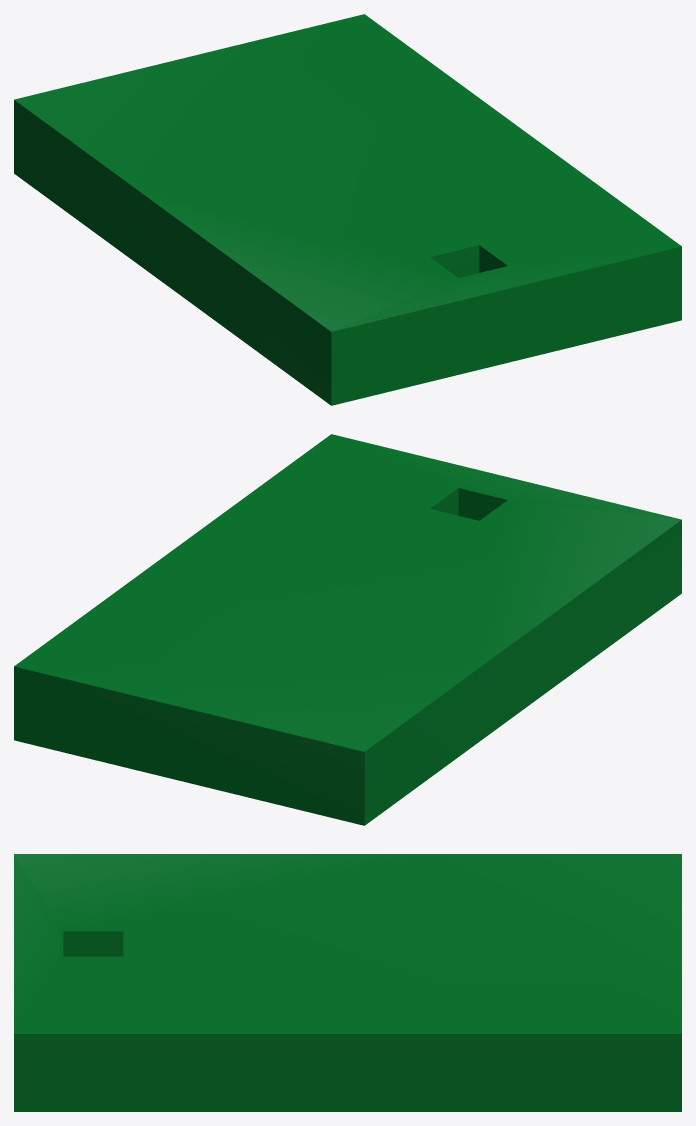
Rendered from course1.fbx.
3 renders of one model, top to bottom at view 1: azimuth 30°, elevation 25°; view 2: azimuth 150°, elevation 25°; view 3: azimuth 270°, elevation 25°, orthographic. The views are drawn at different scales.
Visible parts, largest first — view 1: Cube; view 2: Cube; view 3: Cube.
Part boxes in pixels (x1,y1,x2,y2): Cube: (14, 14, 681, 405); Cube: (14, 434, 681, 825); Cube: (14, 854, 681, 1111).
Size of the model in its own units: 200 by 40.31 by 314.
